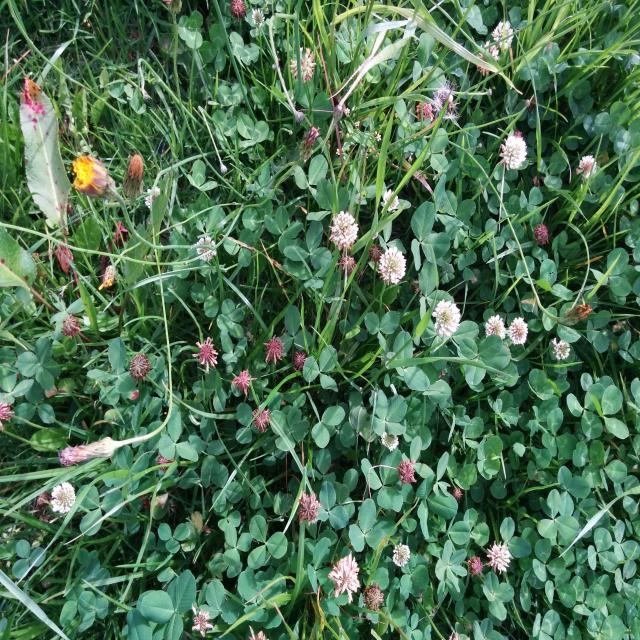Four Leaf Clover: (17, 338, 61, 390), (370, 389, 408, 437), (270, 406, 310, 451), (435, 540, 467, 593), (481, 572, 514, 621), (478, 435, 503, 480), (216, 298, 244, 338)
